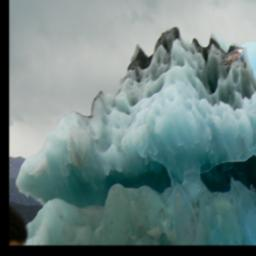Cuckoo: (219, 48, 246, 66)
